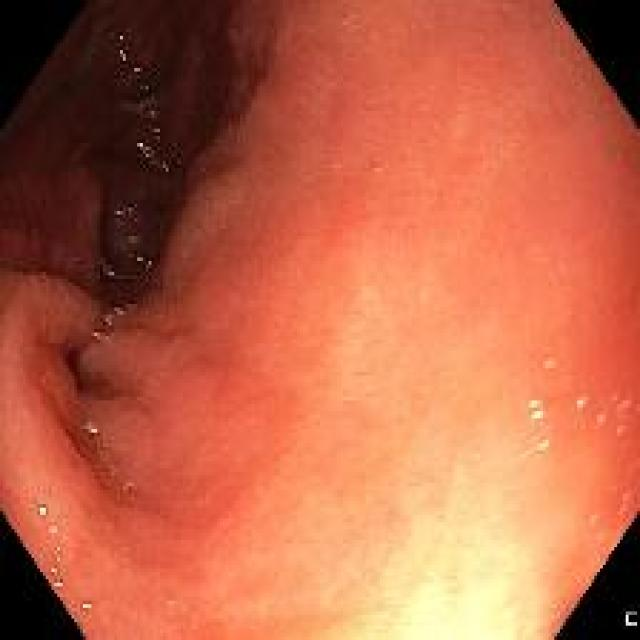bubbles: (601, 391, 630, 441)
contrast: (7, 5, 242, 346), (65, 346, 88, 394)
saturation: (314, 482, 565, 639)
specularity: (47, 522, 72, 602), (522, 427, 553, 471), (567, 385, 591, 417), (525, 391, 542, 420), (74, 593, 95, 615), (36, 502, 52, 517), (541, 352, 555, 369), (118, 50, 127, 62), (135, 140, 144, 151), (148, 109, 155, 119), (133, 64, 139, 73), (86, 422, 92, 429)
